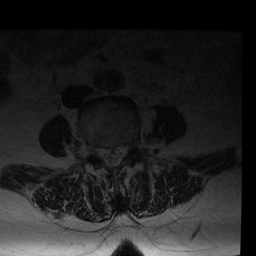CCS_normal: (109, 138, 117, 176)
LFS_normal: (124, 134, 132, 161)
LLS_normal: (117, 137, 124, 170)
RFS_normal: (94, 136, 101, 166)
RLS_normal: (101, 137, 109, 173)
